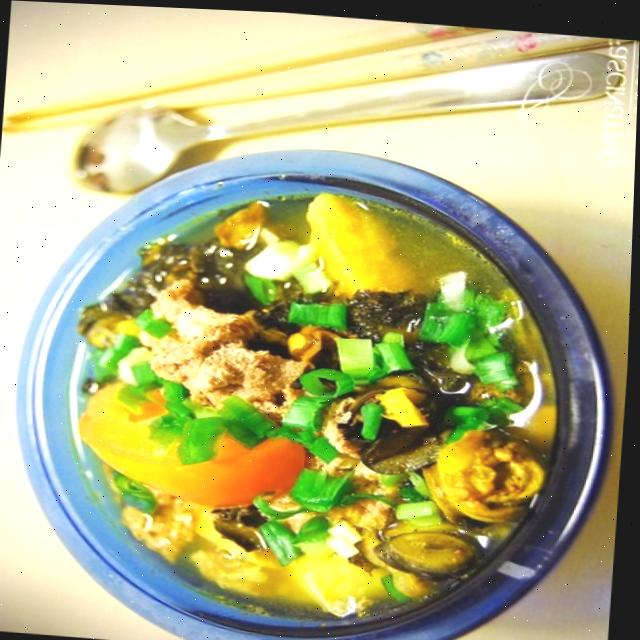面条主食: (0, 125, 630, 640)
